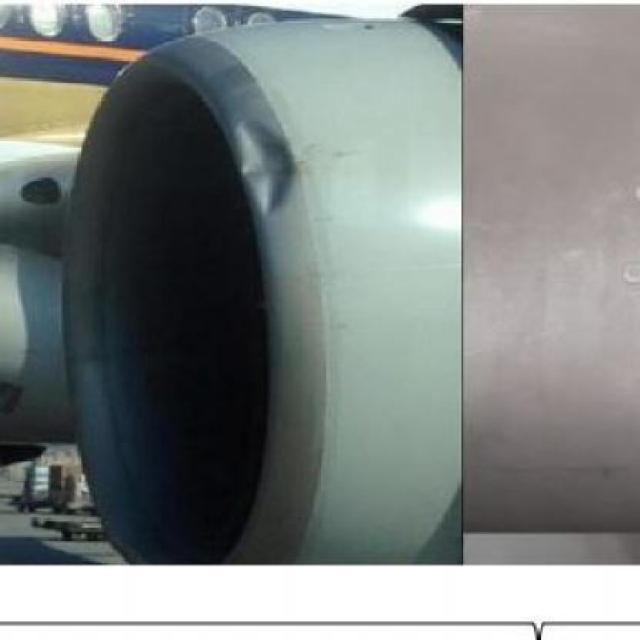dent: (233, 118, 302, 215)
